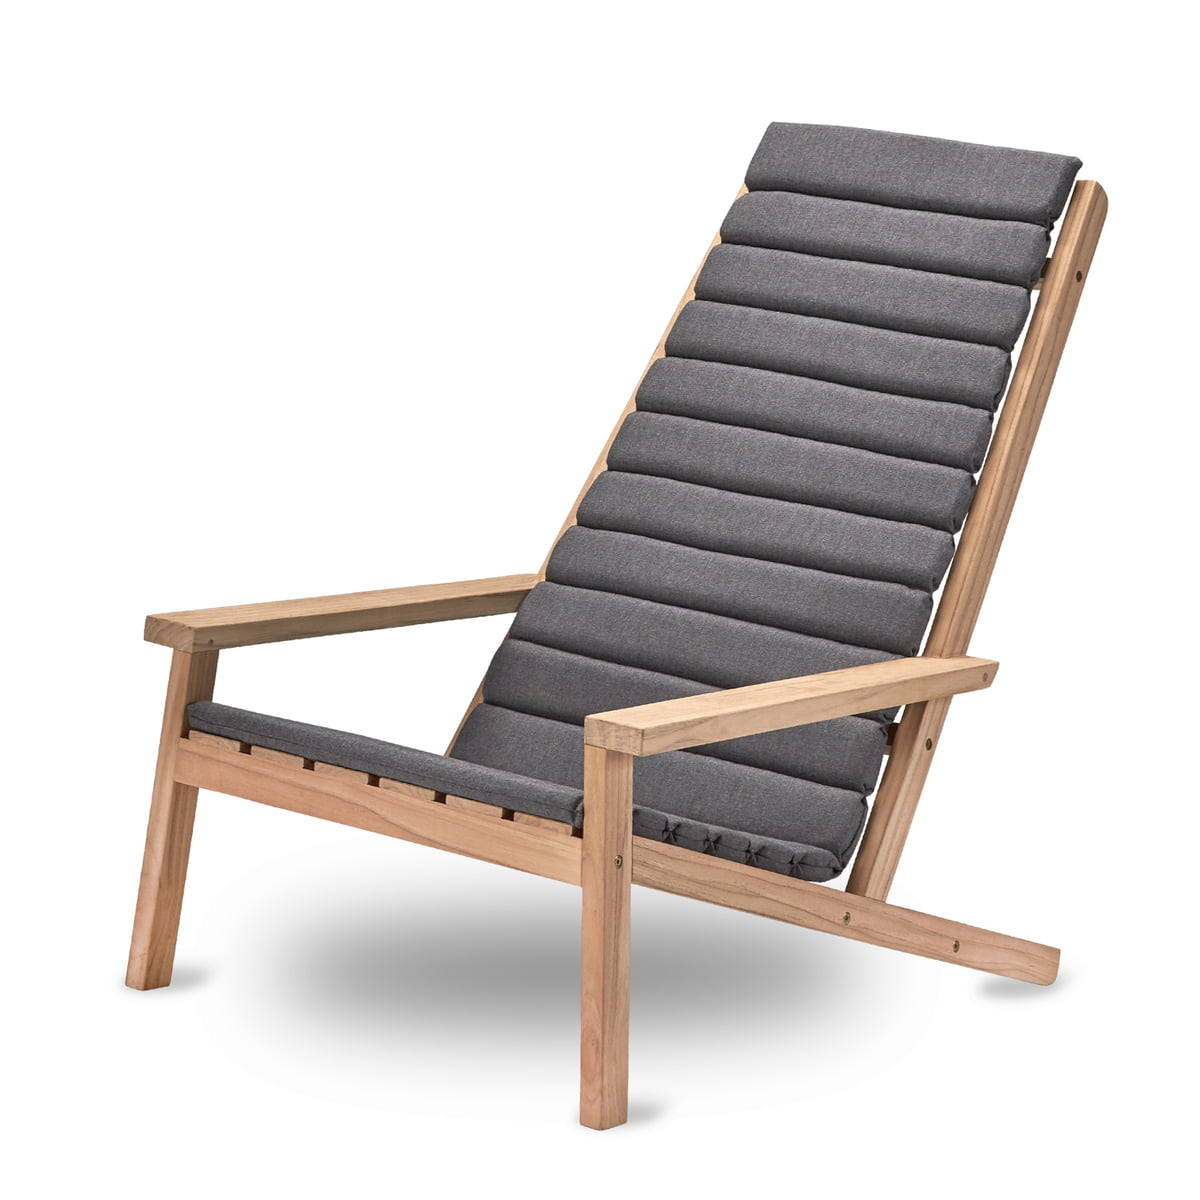chairs: (118, 110, 1112, 1137)
